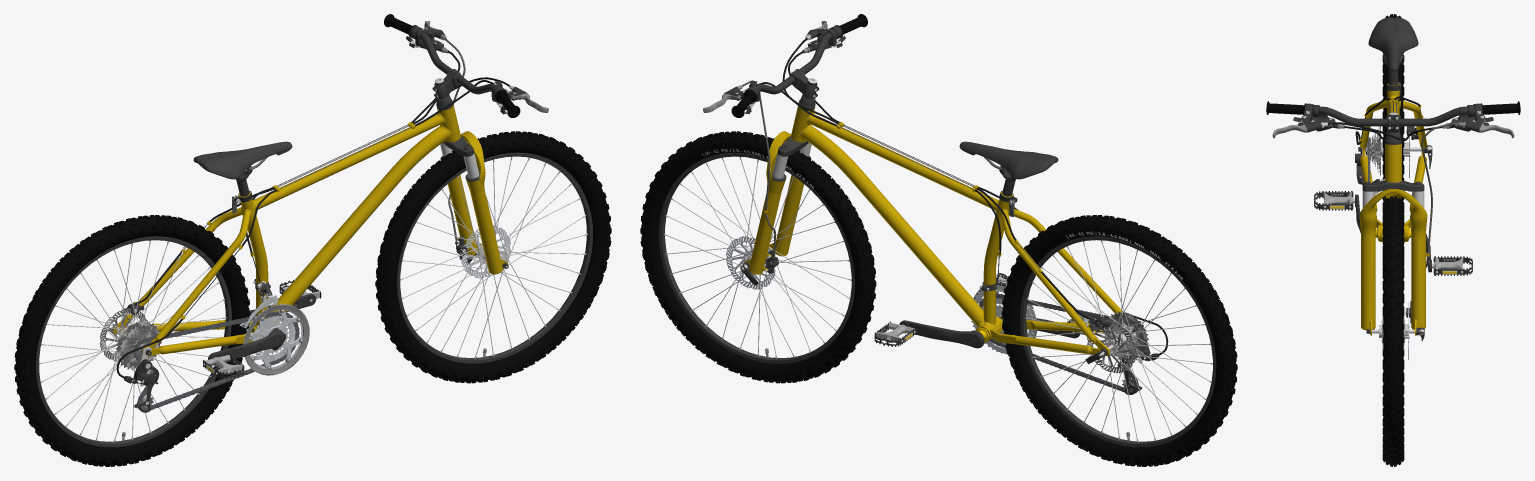
Rendered from product.glb.
3 renders of one model, left to right at view 1: azimuth 30°, elevation 25°; view 2: azimuth 150°, elevation 25°; view 3: azimuth 270°, elevation 25°, orthographic.
Visible parts, largest first — view 1: wheel_front_tire, wheel_rear_tire, frame, wheel_front_spokes, fork, handlebar, wheel_front_rim, drive_crankset, wheel_rear_spokes, wheel_rear_rim, drive_cassette, drive_derailleur (+4 smaller); view 2: wheel_rear_tire, wheel_front_tire, frame, fork, handlebar, wheel_front_spokes, wheel_rear_spokes, wheel_front_rim, wheel_rear_rim, drive_crankset, saddle, brakes_rear (+5 smaller); view 3: wheel_front_tire, fork, handlebar, frame, saddle, wheel_front_spokes, drive_derailleur, wheel_rear_tire, drive_cassette, drive_pedals, brakes_rear, drive_crankset (+1 smaller).
Boxes of the visible parts, x1,y1,x2,y2 form: wheel_front_tire: (375, 131, 611, 383); wheel_rear_tire: (14, 215, 250, 466); frame: (127, 114, 450, 361); wheel_front_spokes: (400, 131, 587, 358); fork: (437, 38, 506, 273); handlebar: (384, 14, 548, 128); wheel_front_rim: (397, 152, 592, 363); drive_crankset: (243, 279, 311, 375); wheel_rear_spokes: (39, 240, 226, 442); wheel_rear_rim: (36, 236, 231, 447); drive_cassette: (116, 318, 182, 385); drive_derailleur: (124, 333, 252, 412); wheel_rear_tire: (1001, 215, 1237, 466); wheel_front_tire: (640, 131, 876, 383); frame: (702, 114, 1182, 354); fork: (742, 80, 814, 273); handlebar: (703, 14, 867, 128); wheel_front_spokes: (663, 131, 851, 358); wheel_rear_spokes: (1025, 240, 1212, 442); wheel_front_rim: (658, 152, 854, 363); wheel_rear_rim: (1020, 236, 1216, 447); drive_crankset: (905, 277, 1037, 354); saddle: (959, 141, 1058, 182); brakes_rear: (1085, 317, 1136, 373); wheel_front_tire: (1382, 196, 1404, 466); fork: (1360, 122, 1458, 335); handlebar: (1266, 101, 1520, 144); frame: (1355, 83, 1431, 272); saddle: (1368, 17, 1418, 71); wheel_front_spokes: (1359, 189, 1427, 350); drive_derailleur: (1314, 155, 1382, 224); wheel_rear_tire: (1382, 14, 1404, 278); drive_cassette: (1355, 126, 1383, 184); drive_pedals: (1432, 256, 1472, 275); brakes_rear: (1406, 126, 1432, 178); drive_crankset: (1374, 190, 1431, 269).
Bounding box in the file's own units: 1.79 × 0.9511 × 0.6583.
Materials: 28 (4 with a texture image).
